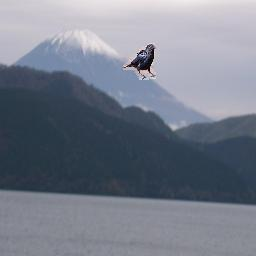Crow: (124, 44, 157, 81)
